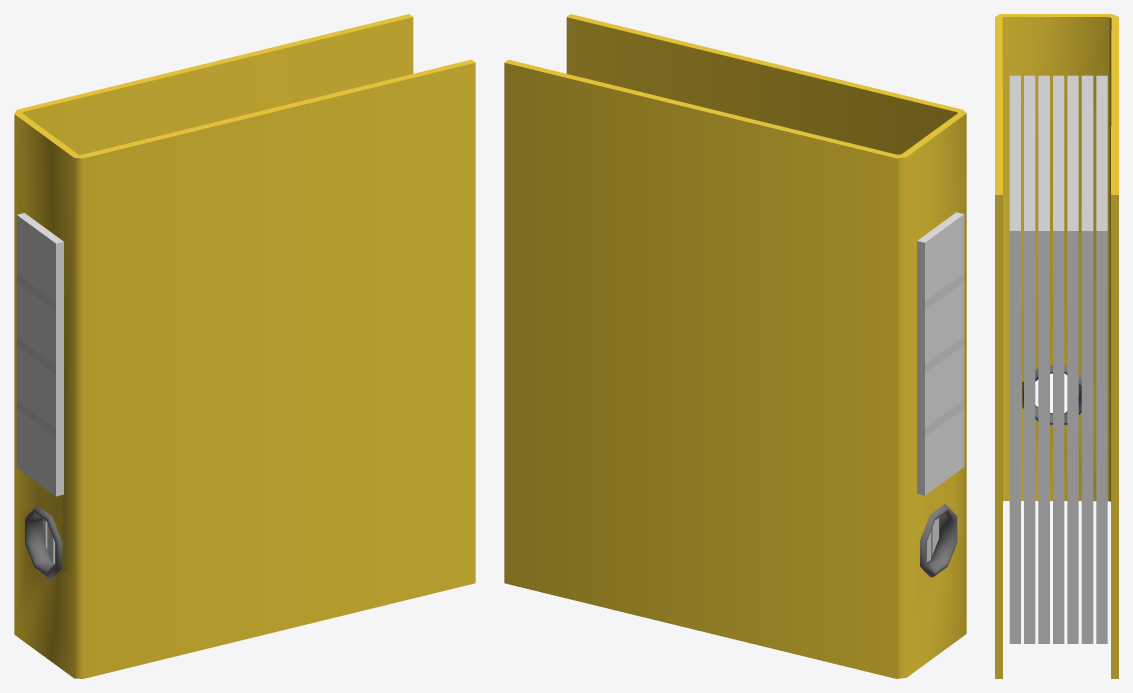
The picture shows the model from 3 angles, left to right: view 1: azimuth 30°, elevation 25°; view 2: azimuth 150°, elevation 25°; view 3: azimuth 270°, elevation 25°; orthographic projection. The views are drawn at different scales.
Parts seen in each view (by area): view 1: File03; view 2: File03; view 3: File03.
Part boxes in pixels (x1,y1,x2,y2): File03: (14,14,475,678); File03: (504,14,966,678); File03: (995,14,1118,678).
Size of the model in its own units: 0.2758 by 0.0781 by 0.3374.
